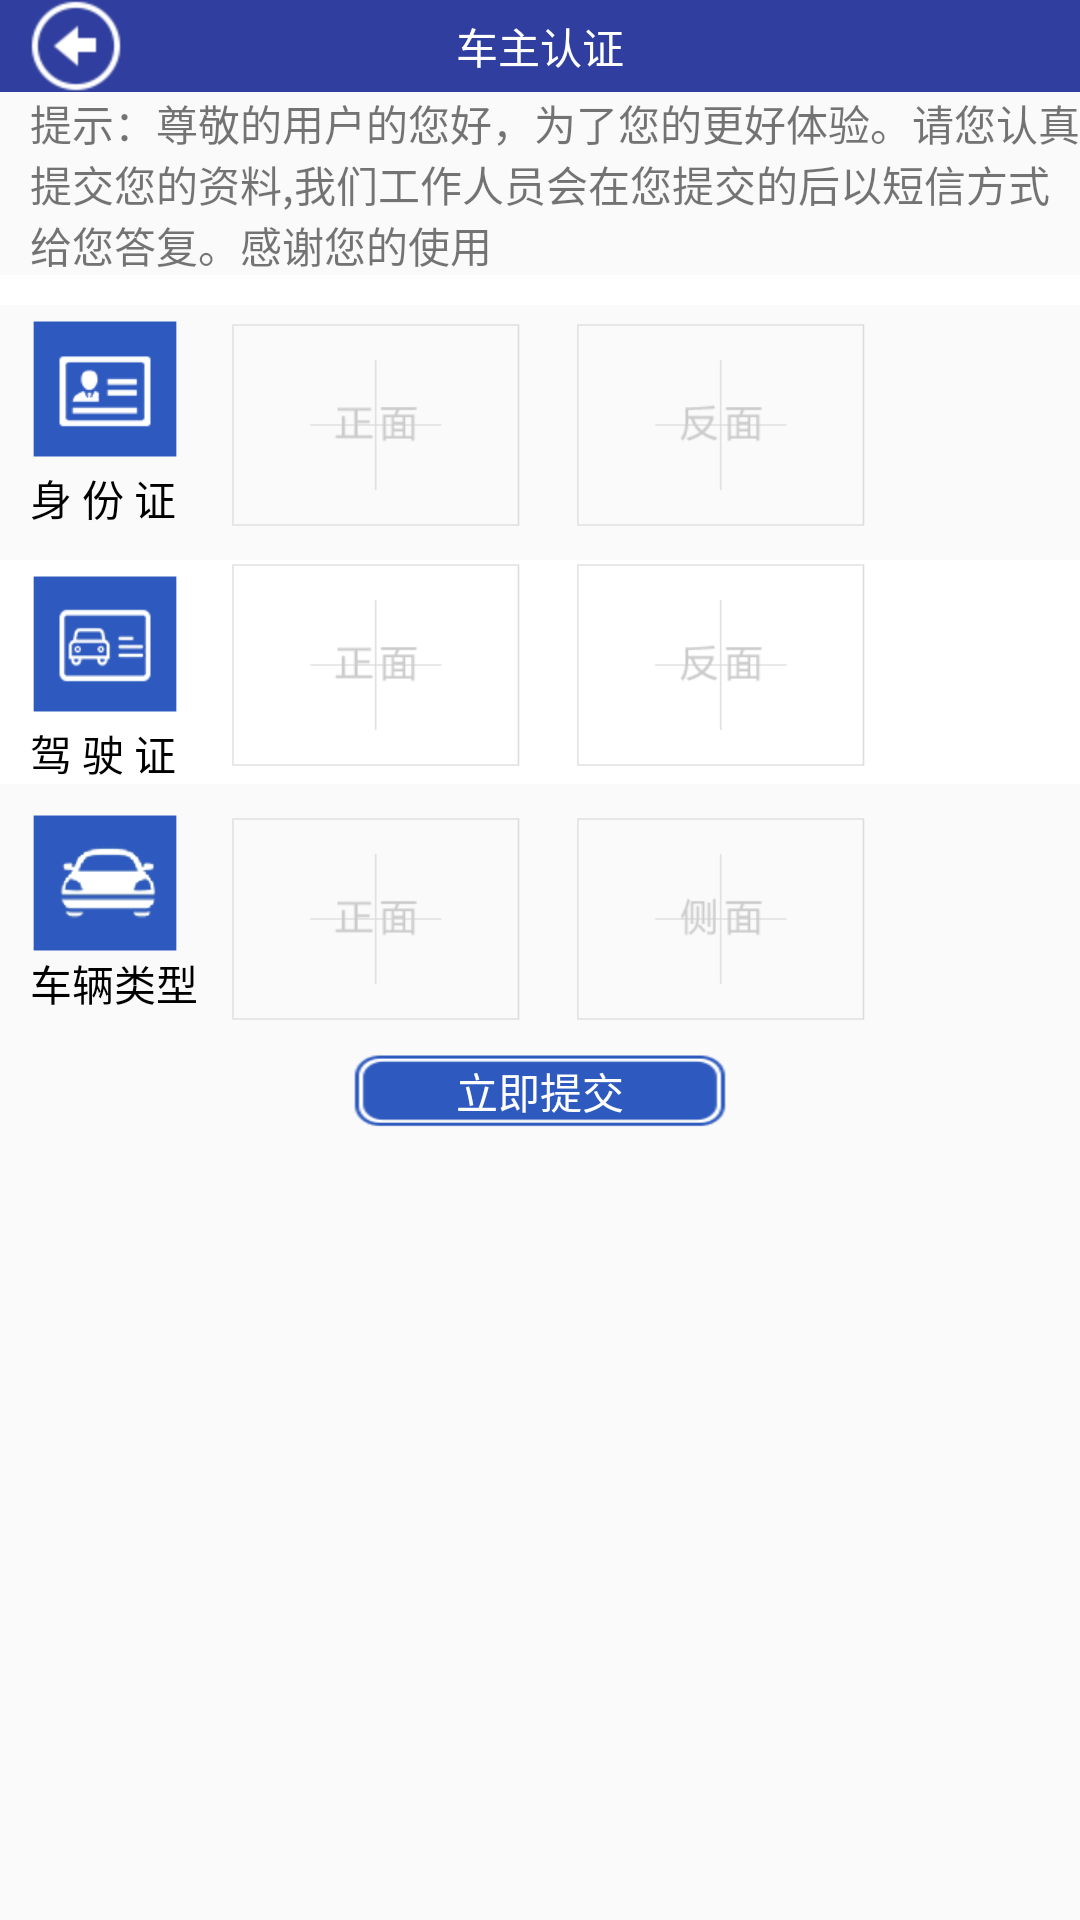

Screen size 1080x1920. Icon name, then its center in pixels as (x=x, y=y):
fanhui: (x=76, y=46)
